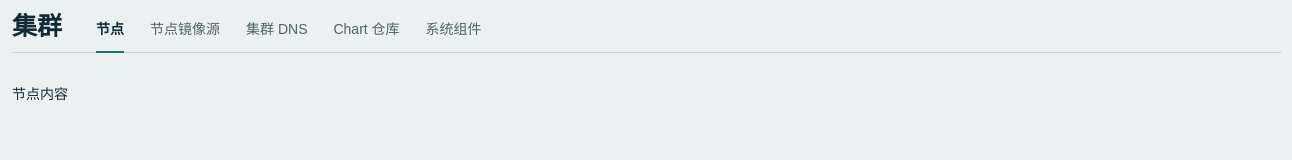
Test: Infrastructure aggregation hubs › switches flattened cluster views from the header
The width and height of the screenshot is (1292, 160).
Click the button with test id "cluster-tab-chart-repositories" at (367, 36), box [334,19,400,52]
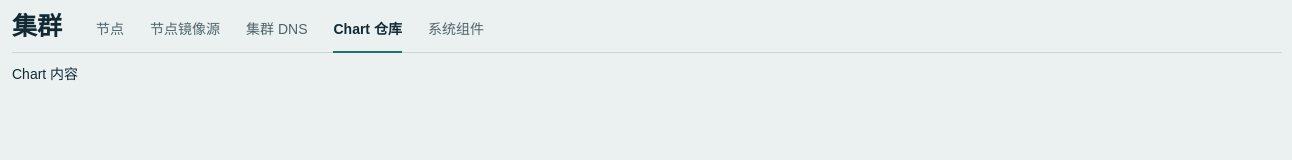
Check: the text "Chart 内容" is shown, box [12,66,78,82]
